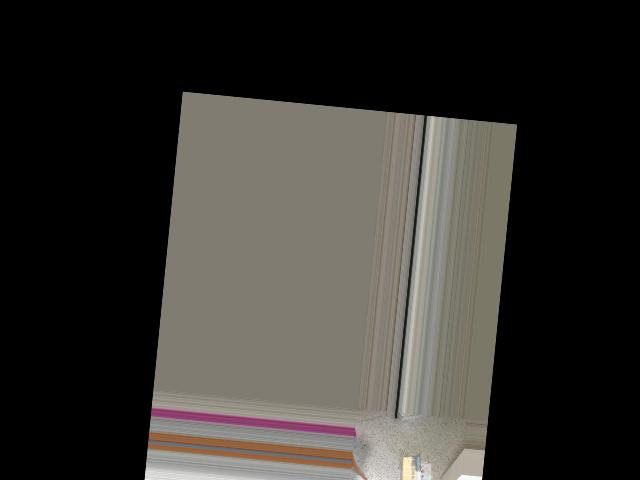cheese: (394, 453, 430, 480)
